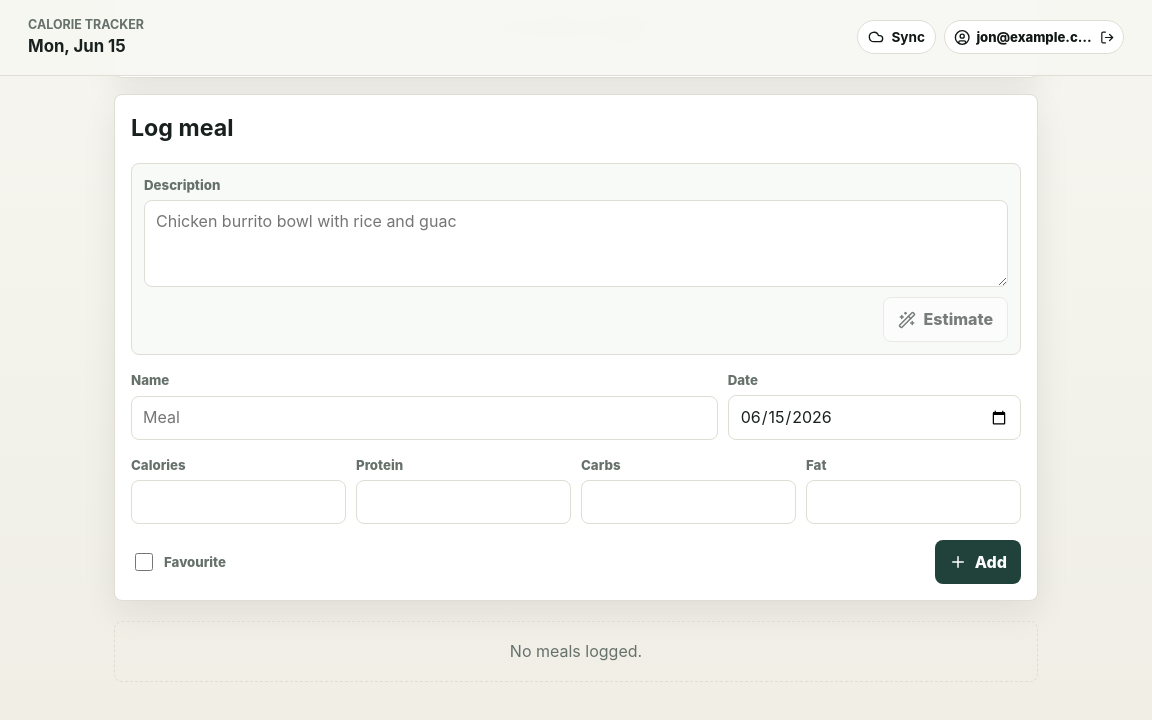
TrackerShell › shows a soft macro mismatch warning
(page scrolled)
Type "1000" into the number field labelled "Calories" at (238, 502), box [131,480,346,524]
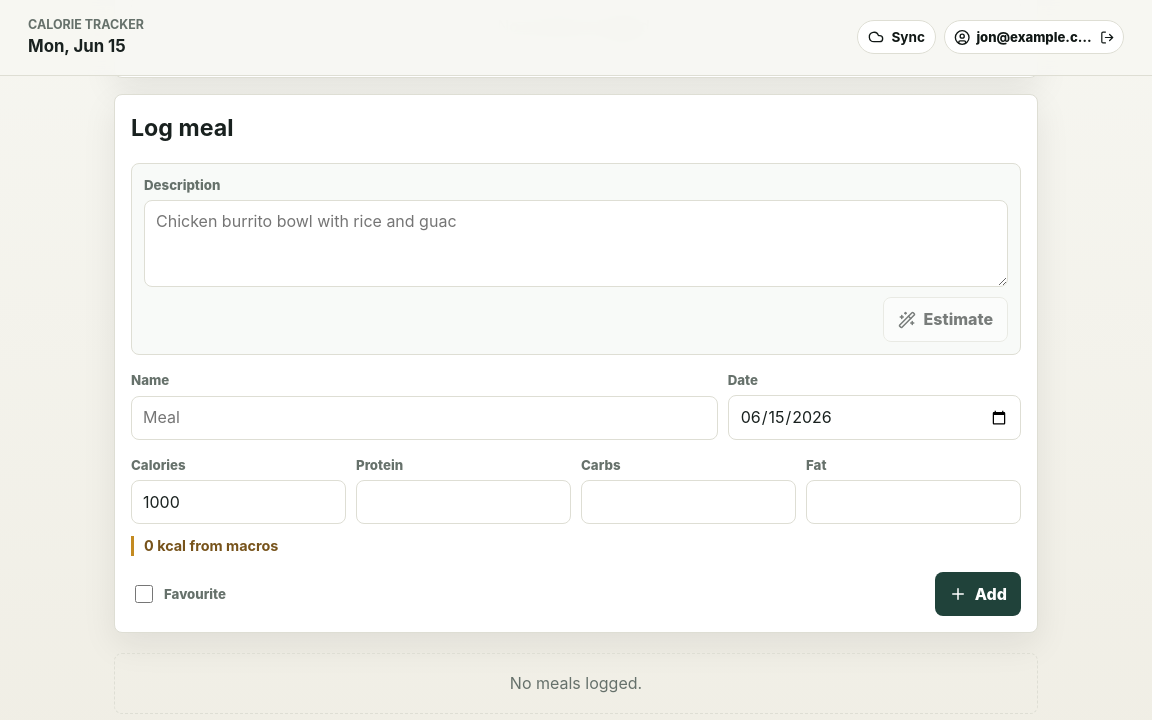
Type "10" into the number field labelled "Protein" at (464, 502), box [356,480,571,524]
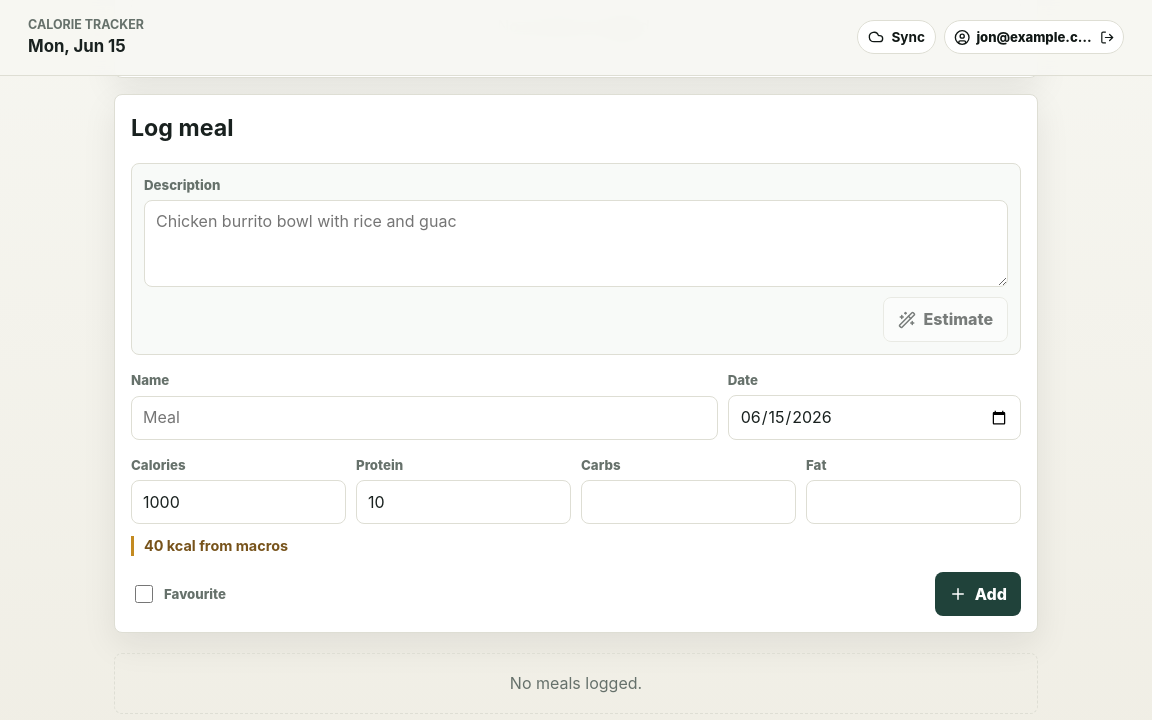
Type "10" into the number field labelled "Carbs" at (688, 502), box [581,480,796,524]
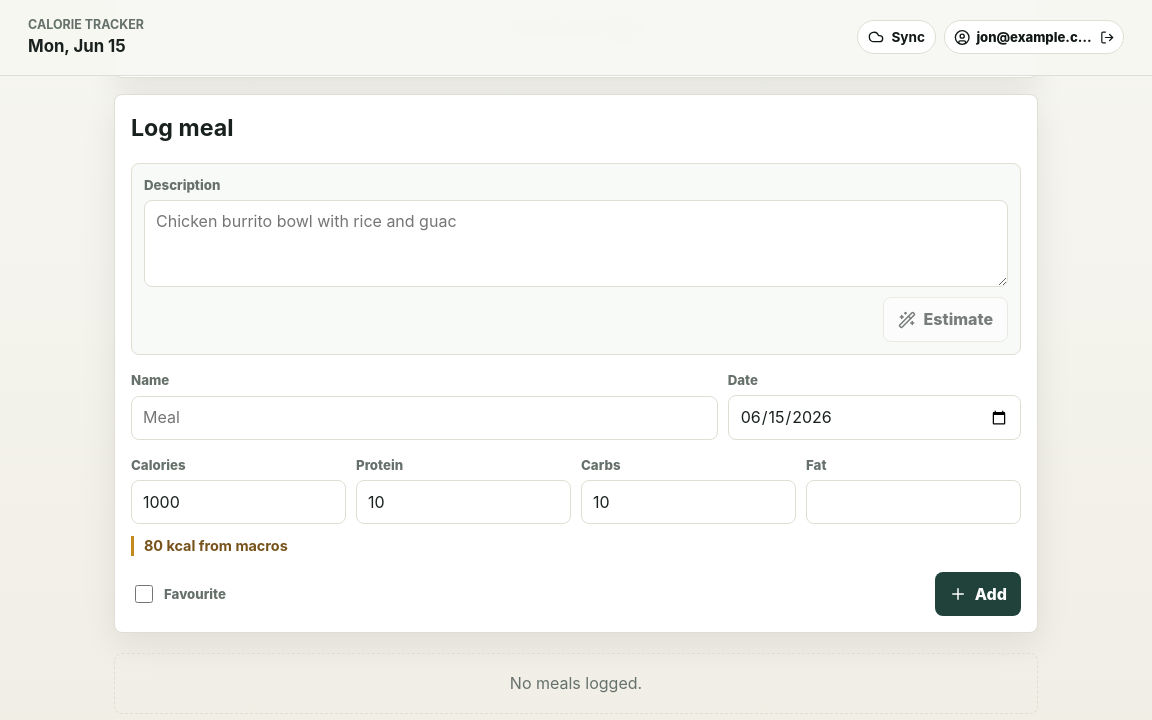
Type "10" into the number field labelled "Fat" at (914, 502), box [806,480,1021,524]
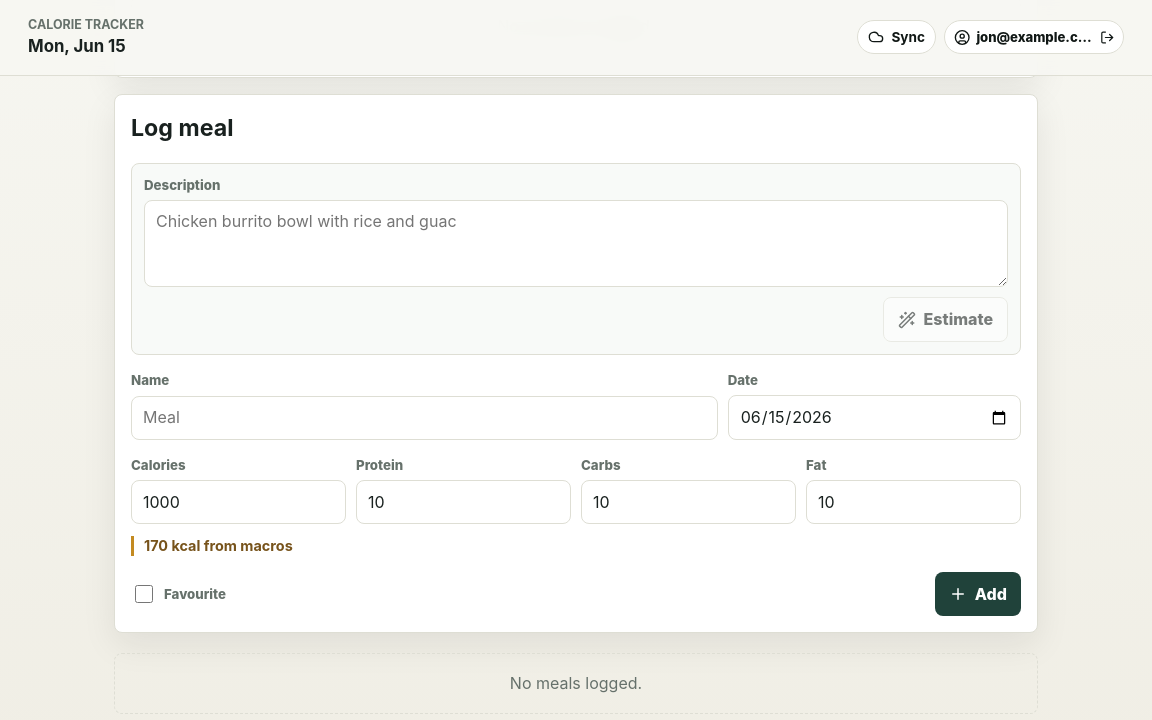
Check: the text "170 kcal from macros" is shown, box [131,536,1021,556]
